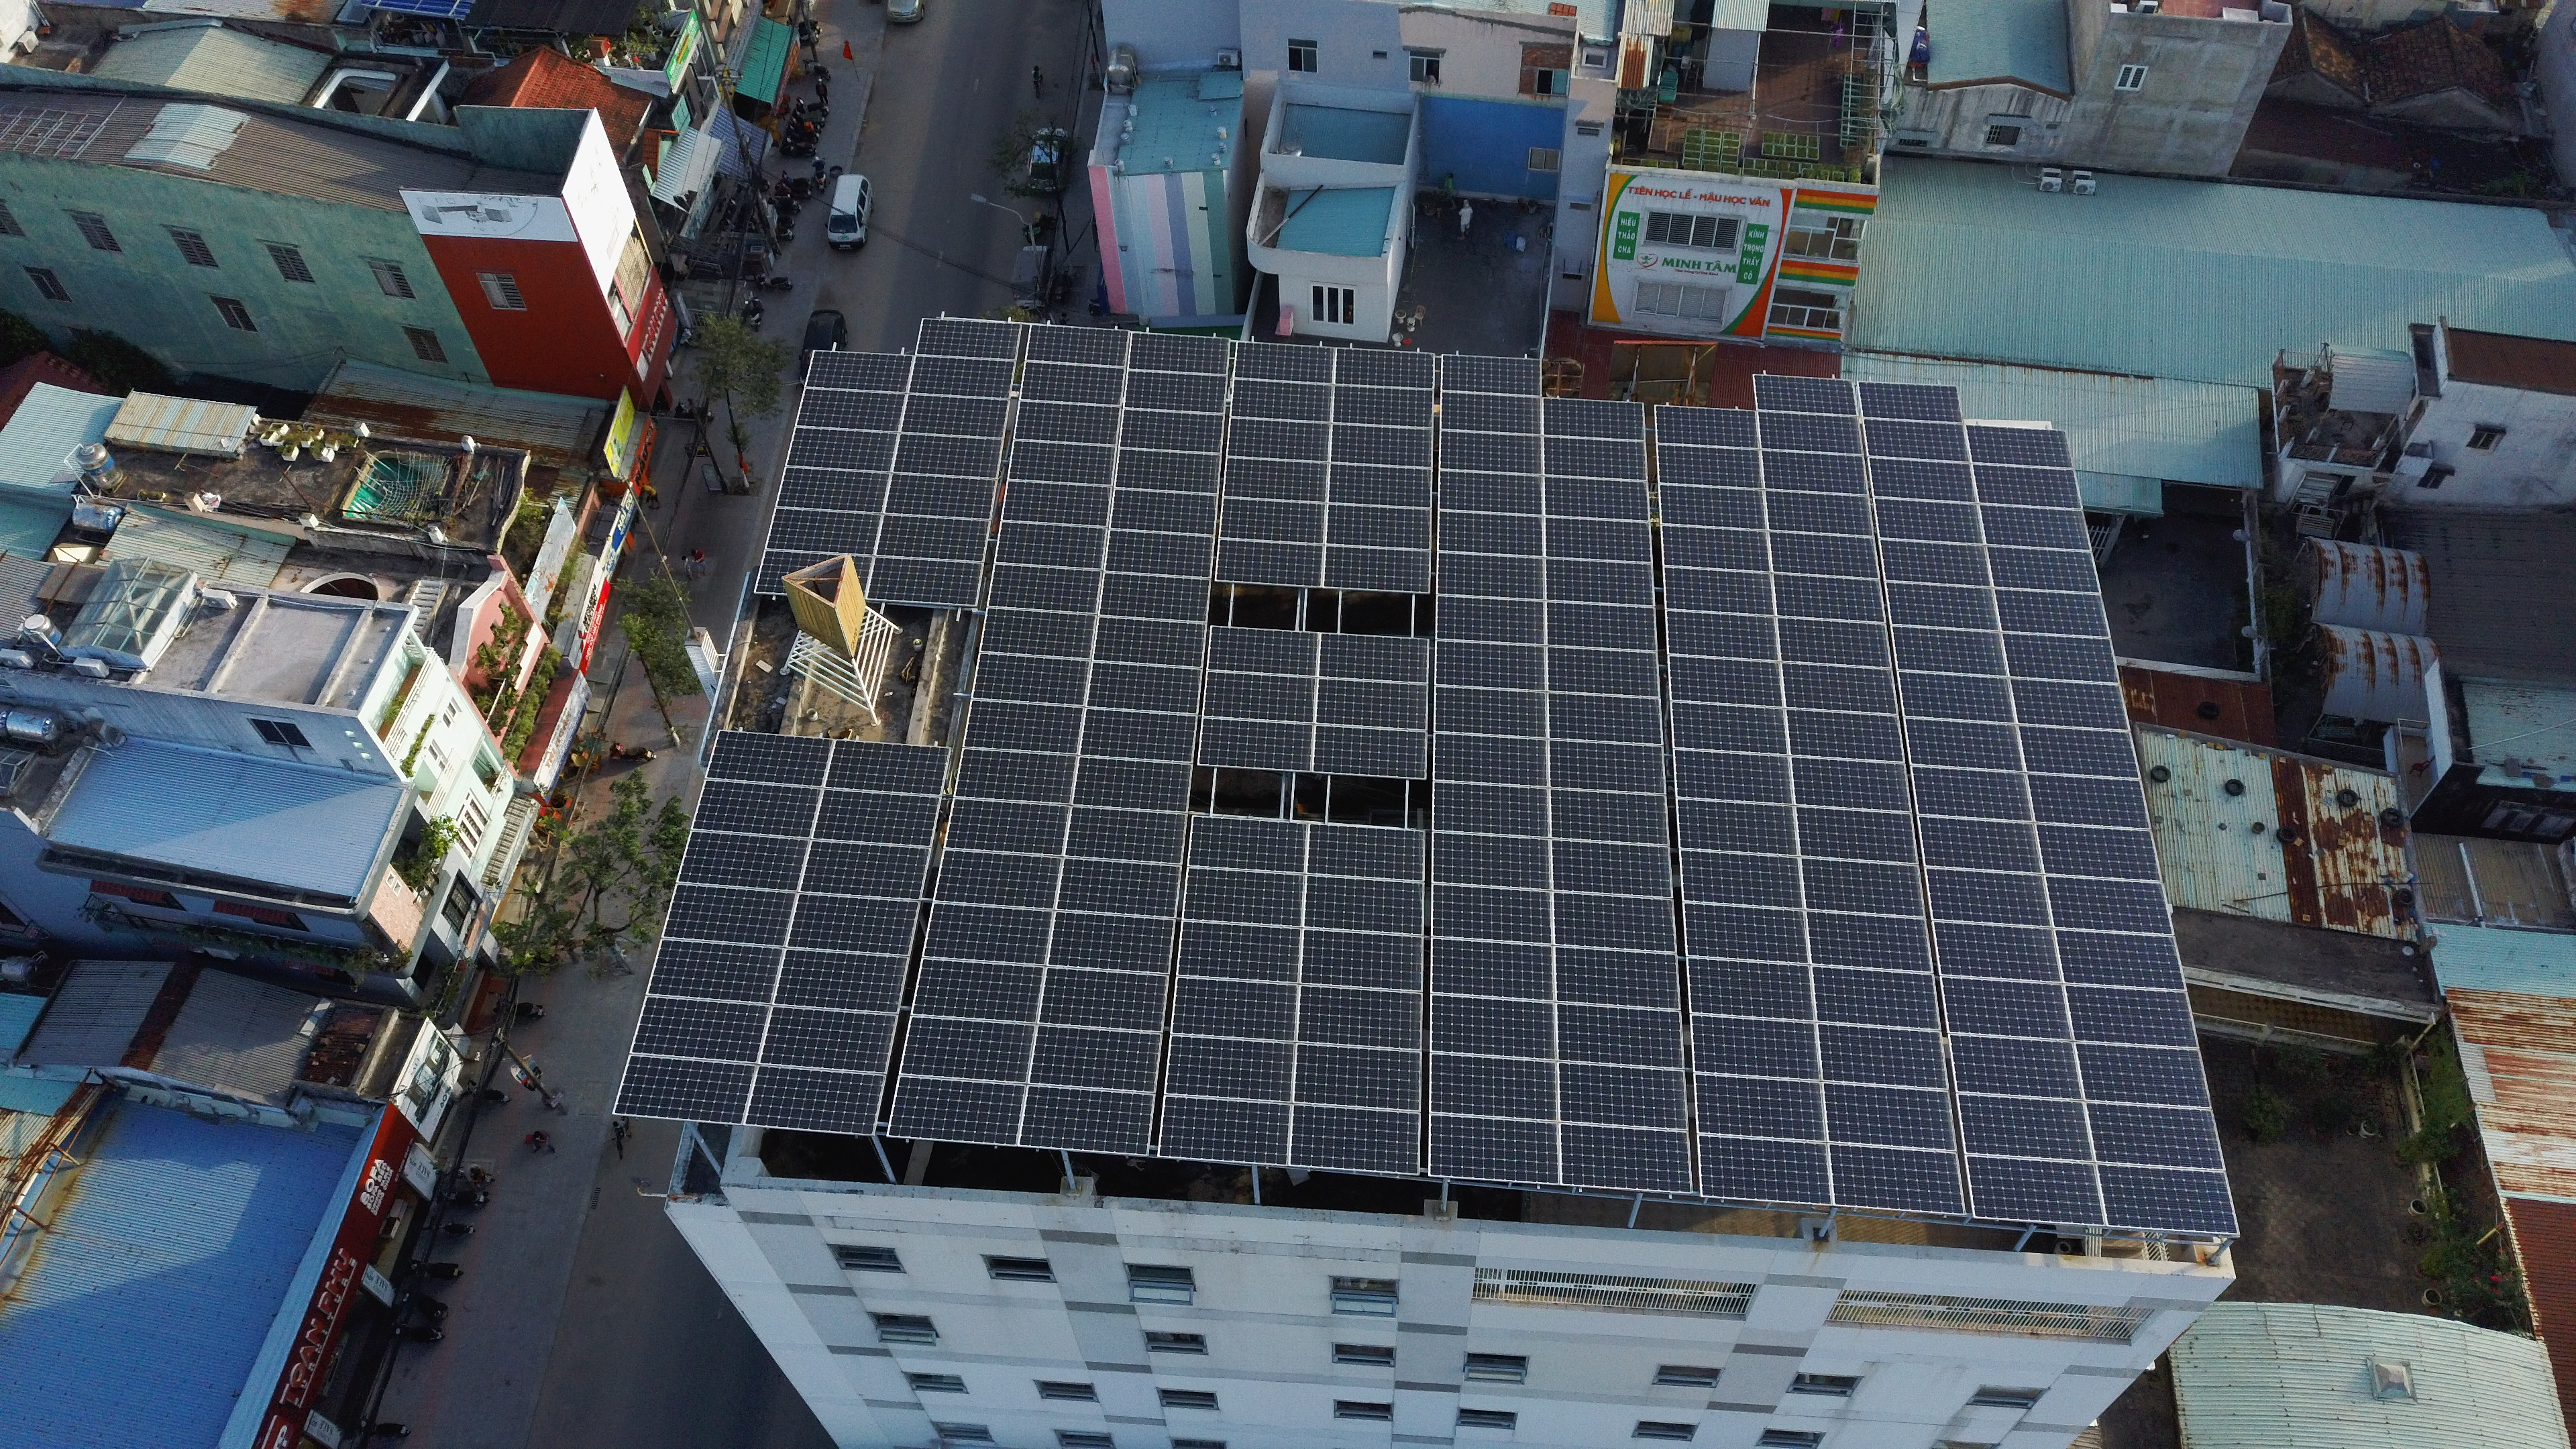solar: (745, 1067, 883, 1136), (1829, 1146, 1966, 1214), (1290, 1104, 1424, 1171), (1822, 1083, 1957, 1150), (1695, 1074, 1824, 1143), (616, 1058, 755, 1122), (1948, 1035, 2081, 1100), (1967, 1157, 2100, 1223), (1959, 1095, 2091, 1161), (1813, 1021, 1950, 1085), (1702, 1136, 1829, 1203), (1023, 1090, 1152, 1155), (1559, 1063, 1688, 1129), (633, 998, 766, 1062), (2088, 1104, 2220, 1168), (2102, 1166, 2235, 1230), (885, 1081, 1021, 1143), (899, 1019, 1037, 1079), (1031, 1028, 1161, 1092), (1562, 1127, 1691, 1191), (1941, 977, 2070, 1040), (2077, 1046, 2210, 1108), (915, 959, 1046, 1021), (1805, 913, 1939, 973), (1693, 1016, 1822, 1077), (649, 941, 786, 1000), (766, 1007, 893, 1069), (1168, 1039, 1295, 1100), (1161, 1099, 1288, 1161), (1937, 920, 2065, 982), (924, 904, 1054, 964), (1808, 970, 1943, 1028), (1430, 1056, 1555, 1118), (2063, 985, 2196, 1044), (1431, 1116, 1557, 1177), (667, 888, 796, 947), (778, 952, 908, 1010), (1686, 961, 1813, 1019), (938, 847, 1060, 908), (1180, 922, 1300, 982), (1431, 885, 1555, 943), (1553, 892, 1677, 950), (1555, 948, 1679, 1007), (1557, 1005, 1681, 1063), (1927, 869, 2051, 927), (1040, 971, 1168, 1028), (676, 833, 807, 888), (948, 794, 1070, 853), (1299, 989, 1421, 1047), (695, 780, 824, 835), (1175, 982, 1295, 1040), (801, 840, 925, 897), (1293, 1049, 1417, 1106), (1433, 941, 1557, 998), (1430, 1000, 1553, 1056), (789, 897, 916, 952), (706, 731, 833, 784), (1803, 860, 1930, 913), (1304, 929, 1422, 985), (1060, 862, 1182, 916), (1681, 851, 1806, 904), (1683, 908, 1808, 961), (1672, 750, 1796, 803), (1677, 800, 1801, 853), (828, 740, 950, 793), (1053, 916, 1175, 970), (2035, 824, 2157, 878), (2047, 881, 2169, 934), (1184, 872, 1304, 925), (2029, 773, 2150, 826), (1796, 809, 1920, 860), (2058, 934, 2181, 985), (1918, 821, 2045, 870), (968, 699, 1086, 752), (1307, 821, 1426, 874), (1307, 878, 1426, 931), (1916, 766, 2035, 819), (1794, 757, 1916, 809), (814, 794, 939, 844), (957, 750, 1077, 801), (973, 651, 1092, 702), (1435, 732, 1548, 786), (1074, 759, 1191, 810), (1435, 782, 1546, 835), (1437, 833, 1548, 886), (2013, 678, 2128, 729), (1553, 844, 1672, 893), (1778, 662, 1900, 709), (1787, 711, 1909, 759), (1672, 649, 1782, 702), (1067, 810, 1184, 860), (2024, 725, 2139, 775), (980, 607, 1097, 655), (1548, 743, 1665, 791), (1552, 793, 1668, 840), (867, 556, 982, 603), (1081, 713, 1196, 761), (1207, 633, 1320, 681), (1203, 674, 1316, 722), (1192, 819, 1306, 867), (1907, 722, 2020, 770), (2003, 635, 2116, 683), (1877, 538, 1994, 584), (1884, 584, 2001, 630), (1665, 522, 1773, 571), (1201, 720, 1313, 768), (1437, 686, 1548, 734), (1548, 649, 1660, 697), (991, 564, 1106, 610), (1966, 421, 2075, 469), (908, 354, 1024, 398), (1660, 441, 1767, 488), (1661, 483, 1769, 531), (1667, 566, 1775, 614), (1543, 559, 1654, 605), (1545, 602, 1656, 648), (1550, 695, 1661, 741), (777, 467, 892, 511), (755, 550, 870, 594), (1001, 479, 1116, 524), (1674, 706, 1789, 750), (1872, 501, 1987, 545), (1893, 628, 2008, 672), (1897, 674, 2012, 718), (1438, 644, 1545, 692), (1656, 402, 1762, 449), (1670, 612, 1776, 660), (892, 428, 1001, 474), (885, 471, 994, 517), (879, 513, 989, 559), (1318, 678, 1428, 724), (1982, 502, 2091, 548), (1996, 589, 2105, 635), (800, 350, 913, 395), (793, 386, 906, 430), (768, 508, 881, 552), (1092, 663, 1196, 711), (1122, 331, 1230, 377), (1315, 725, 1422, 771), (786, 426, 901, 469), (998, 522, 1113, 564), (1123, 372, 1230, 418), (1438, 596, 1545, 642), (1753, 372, 1859, 418), (1318, 635, 1428, 679), (1974, 464, 2084, 508), (1987, 547, 2097, 591), (1111, 488, 1215, 534), (1108, 531, 1212, 577), (1543, 517, 1647, 563), (902, 389, 1010, 433), (1118, 410, 1224, 455), (1440, 432, 1541, 478), (1115, 448, 1219, 492), (1102, 577, 1207, 621), (1097, 619, 1201, 663), (1442, 354, 1541, 400), (1440, 511, 1543, 556), (1325, 547, 1431, 589), (1759, 410, 1865, 453), (1764, 455, 1870, 497), (1776, 577, 1882, 619), (1780, 621, 1886, 663), (1861, 421, 1967, 464), (911, 315, 1021, 356), (1231, 380, 1332, 425), (1228, 418, 1329, 462), (1226, 458, 1327, 502), (1221, 501, 1322, 545), (1219, 541, 1320, 586), (1440, 389, 1541, 433), (1008, 441, 1122, 479), (1769, 536, 1877, 577), (1332, 382, 1431, 426), (1440, 472, 1539, 517), (1440, 554, 1543, 596), (1021, 364, 1132, 403), (1017, 402, 1129, 441), (1028, 324, 1134, 364), (1766, 492, 1872, 533), (1858, 380, 1964, 421), (1868, 458, 1974, 499), (1332, 460, 1430, 504), (1233, 338, 1334, 380), (1545, 478, 1645, 520), (1330, 421, 1430, 464), (1546, 435, 1645, 478), (1330, 502, 1428, 545), (1545, 400, 1645, 441), (1336, 347, 1435, 387)
